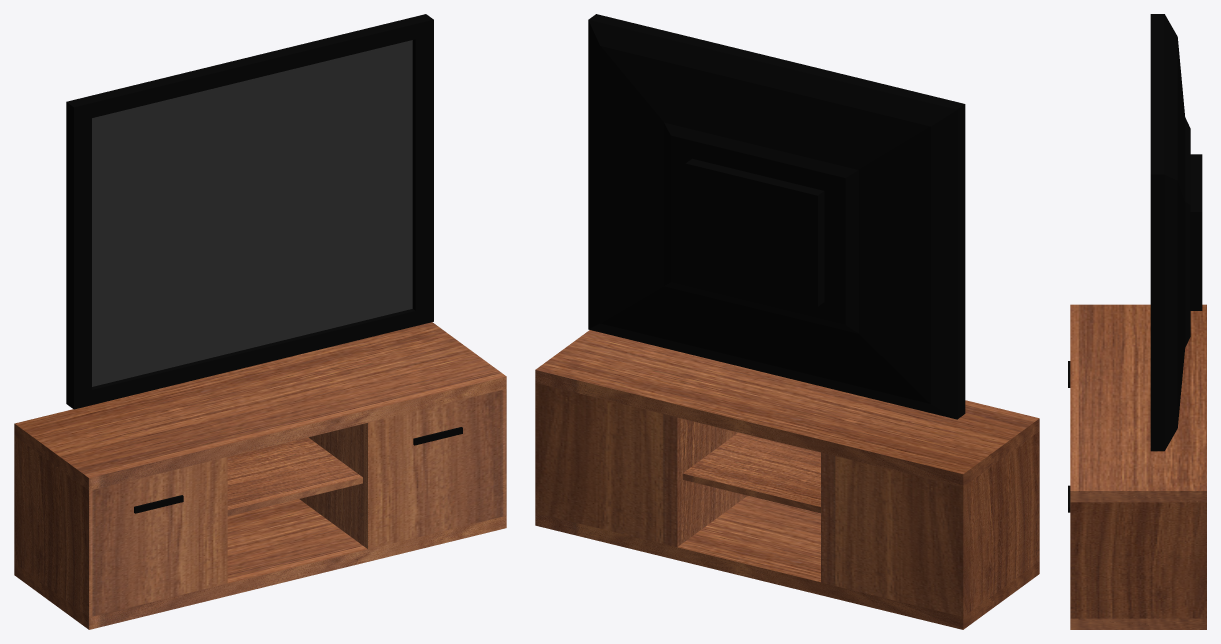
3 views of the same model, side by side, from view 1: azimuth 30°, elevation 25°; view 2: azimuth 150°, elevation 25°; view 3: azimuth 270°, elevation 25° (orthographic). The views are drawn at different scales.
Visible parts, largest first — view 1: TV, TV Drawer; view 2: TV, TV Drawer; view 3: TV Drawer, TV.
Boxes of the visible parts, <box> form: TV: <box>66,14,433,409</box>; TV Drawer: <box>14,322,506,629</box>; TV: <box>588,14,965,419</box>; TV Drawer: <box>535,330,1039,629</box>; TV Drawer: <box>1068,304,1206,629</box>; TV: <box>1150,14,1202,451</box>.
Size of the model in its own units: 232 by 257 by 73.07.
